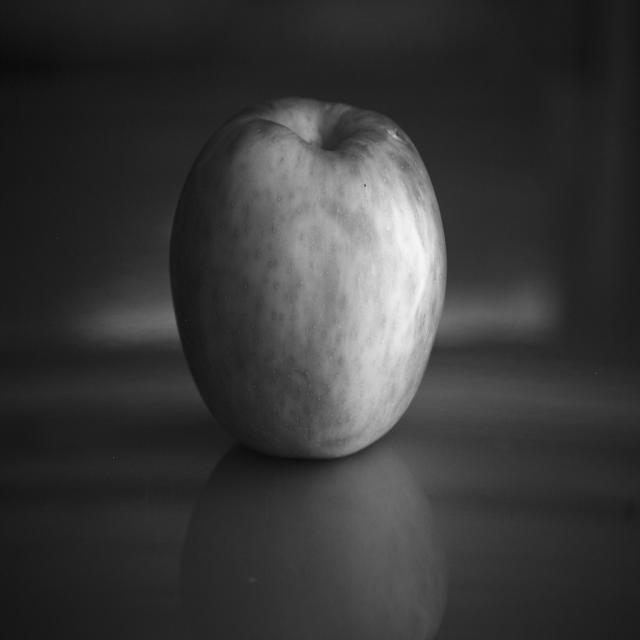Healty Apple: (168, 94, 449, 461)
